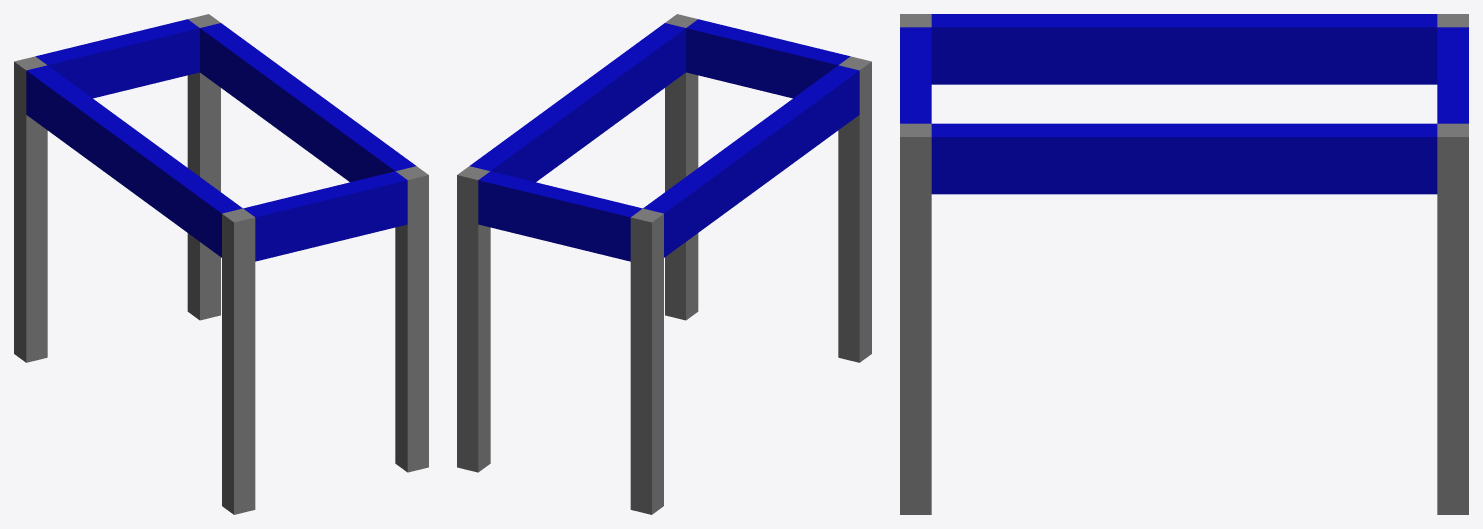
The model's file is PaulaRamos_revistero.glb.
3 renders of one model, left to right at view 1: azimuth 30°, elevation 25°; view 2: azimuth 150°, elevation 25°; view 3: azimuth 270°, elevation 25°, orthographic. The views are drawn at different scales.
Visible parts, largest first — view 1: pata (×4), travesaño 2 (×2), travesaño (×2); view 2: pata (×4), travesaño 2 (×2), travesaño (×2); view 3: travesaño 2 (×2), pata (×2), travesaño (×2).
Boxes of the visible parts, x1,y1,x2,y2 form: pata (×4): (14,14,428,514); travesaño 2 (×2): (26,23,415,257); travesaño (×2): (35,19,407,261); pata (×4): (457,14,871,514); travesaño 2 (×2): (470,23,859,257); travesaño (×2): (478,19,850,261); travesaño 2 (×2): (931,14,1437,194); pata (×2): (900,123,1468,514); travesaño (×2): (900,27,1468,123).
Size of the model in its own units: 0.23 by 0.33 by 0.45.
